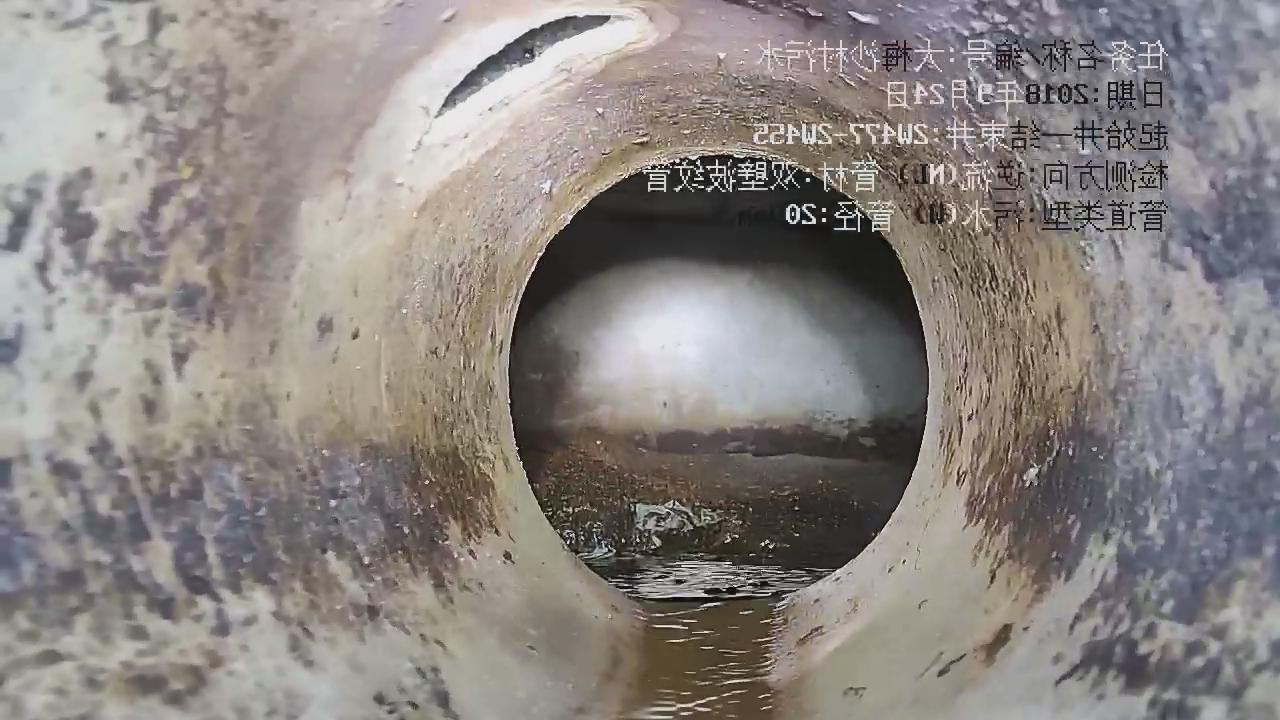PL: (419, 11, 622, 144)
